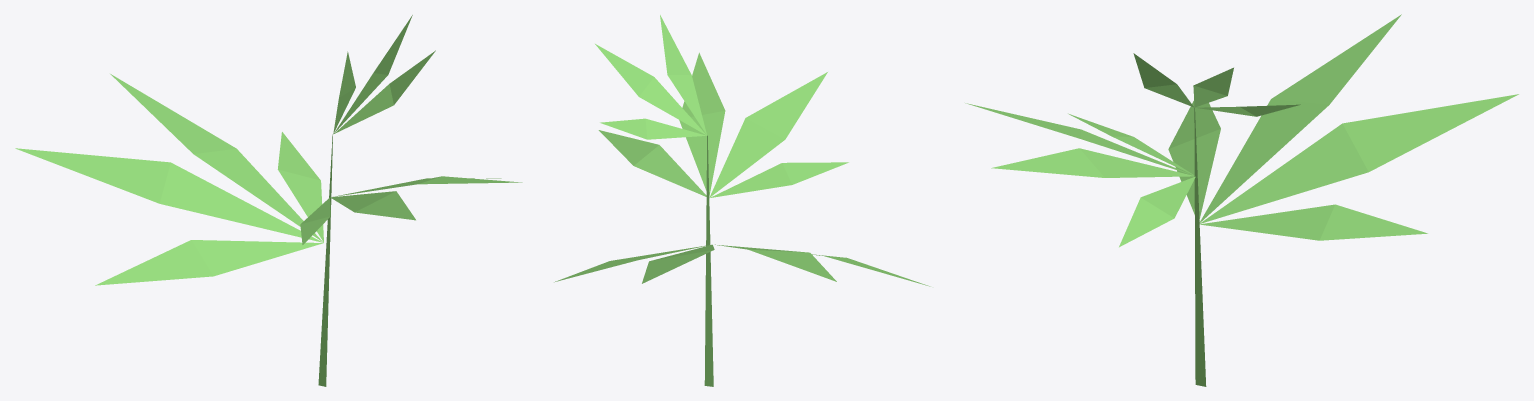
File: Plant_i_OneS_09.fbx
3 views of the same model, side by side, from view 1: azimuth 30°, elevation 25°; view 2: azimuth 150°, elevation 25°; view 3: azimuth 270°, elevation 25° (orthographic). The views are drawn at different scales.
Visible parts, largest first — view 1: Plant_i_OneS_09; view 2: Plant_i_OneS_09; view 3: Plant_i_OneS_09.
Part boxes in pixels (left/top/right/bottom): Plant_i_OneS_09: left=15, top=15, right=522, bottom=386; Plant_i_OneS_09: left=554, top=15, right=930, bottom=386; Plant_i_OneS_09: left=965, top=14, right=1518, bottom=386.
Size of the model in its own units: 20.15 by 17.04 by 22.82.
